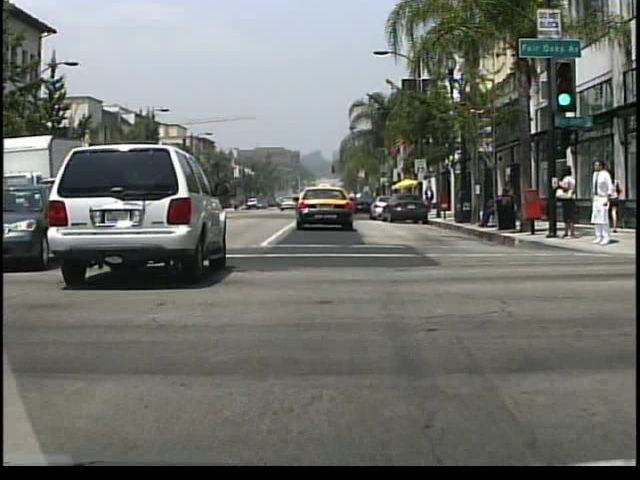person: (588, 159, 614, 246), (552, 162, 576, 239), (602, 169, 624, 235), (474, 190, 500, 230), (497, 179, 510, 226), (424, 185, 435, 208)
